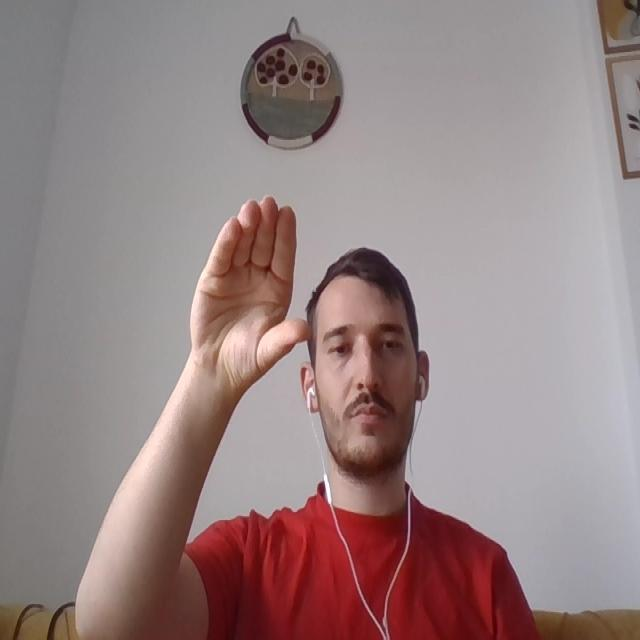no: (188, 206, 311, 370)
